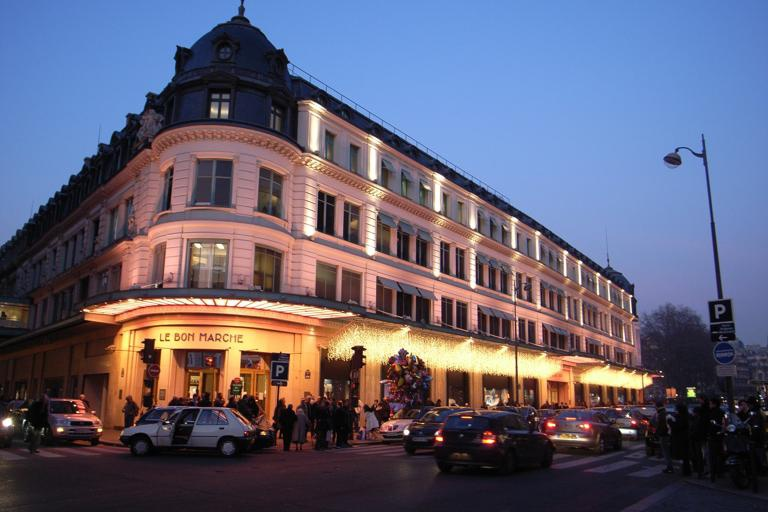non-vehicle: (709, 411, 758, 489), (0, 404, 21, 448)
